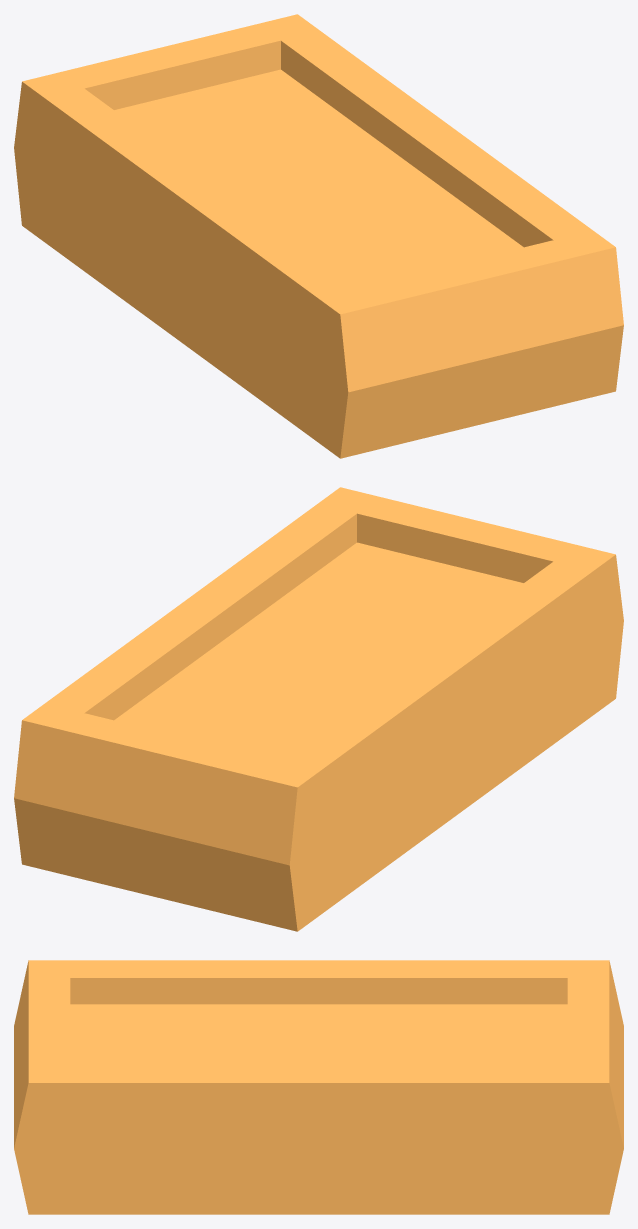
Rendered from Jabon.fbx.
The picture shows the model from 3 angles, top to bottom: view 1: azimuth 30°, elevation 25°; view 2: azimuth 150°, elevation 25°; view 3: azimuth 270°, elevation 25°; orthographic projection. The views are drawn at different scales.
Parts seen in each view (by area): view 1: Cube; view 2: Cube; view 3: Cube.
Boxes of the visible parts, x1,y1,x2,y2 form: Cube: (14, 14, 623, 458); Cube: (14, 487, 623, 931); Cube: (14, 960, 623, 1214).
Bounding box in the file's own units: 60 × 30 × 126.
